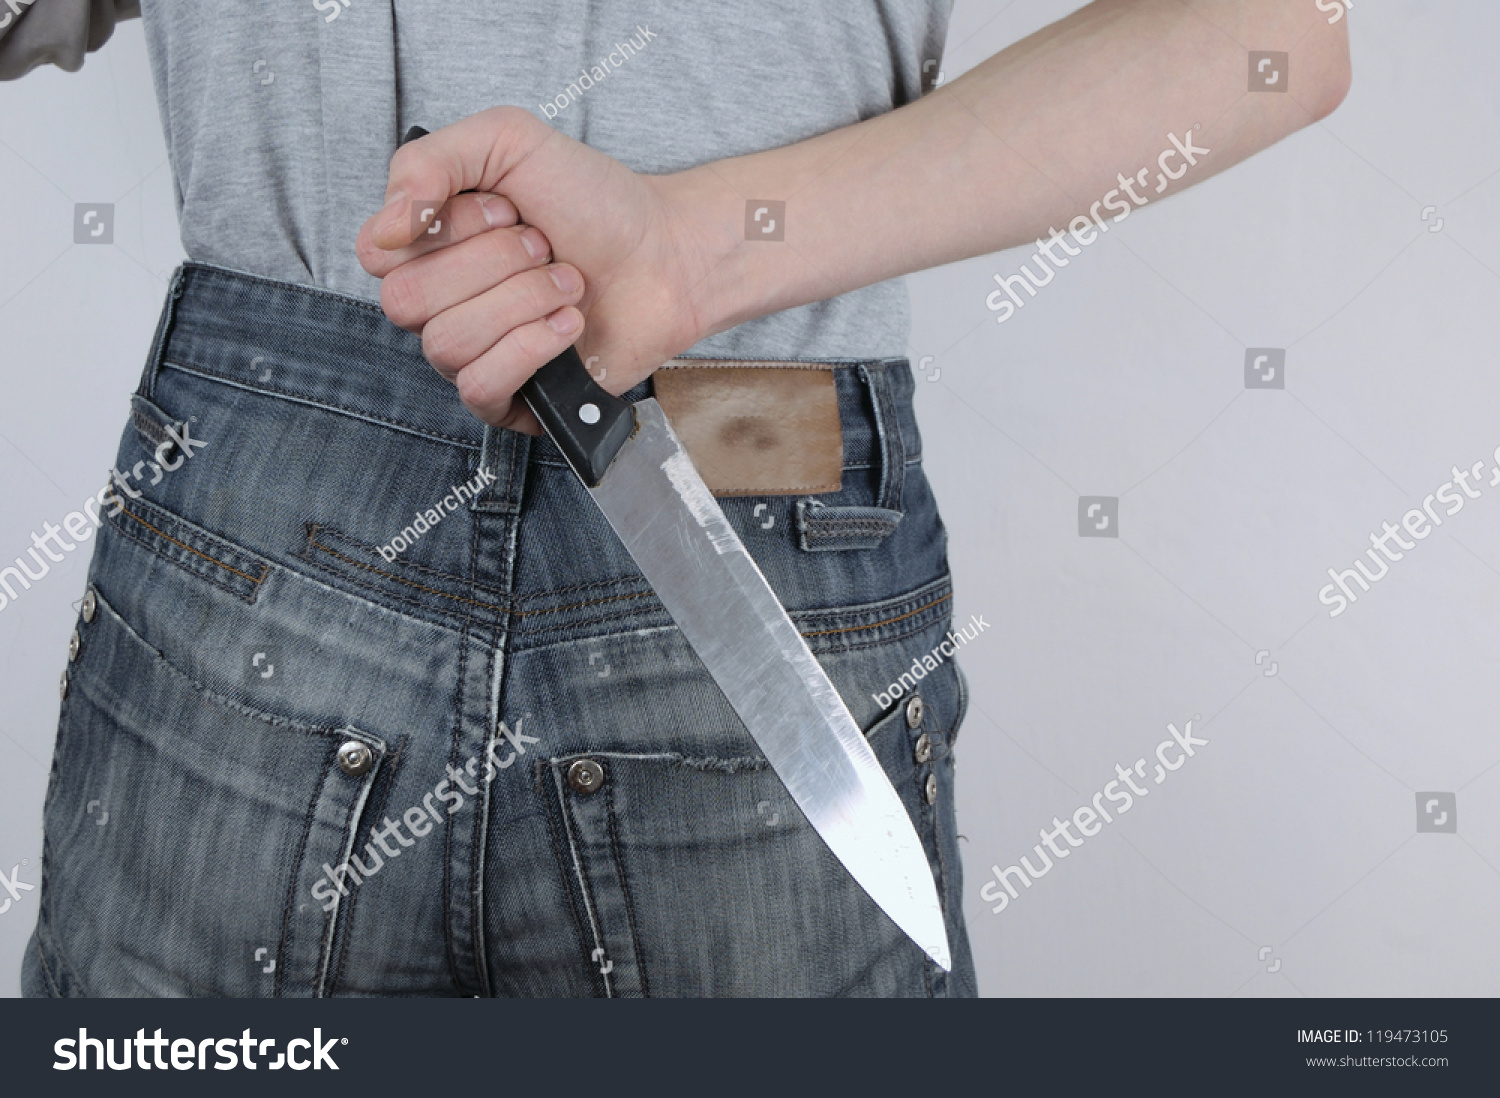knife: (351, 219, 965, 982)
